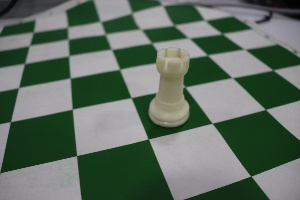white_rook: (139, 35, 195, 135)
